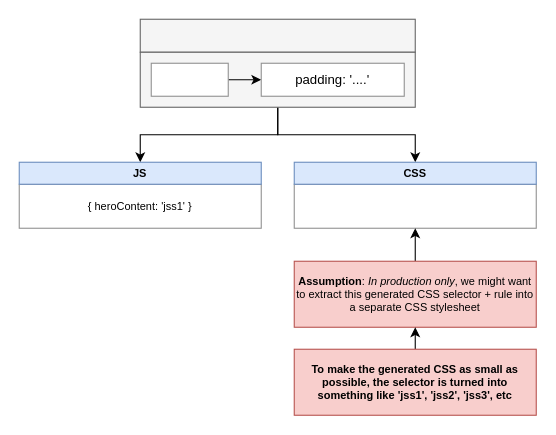
This 556x435 diagram has some shape labels left out. The shapes that lost their labels are listed below. From the top down, each one's centre as x and y in pixels, then its label:
At point 277,35: "makeStyles".
At point 189,79: "heroContent".
At point 414,205: ".jss1 { padding: '...' }".
